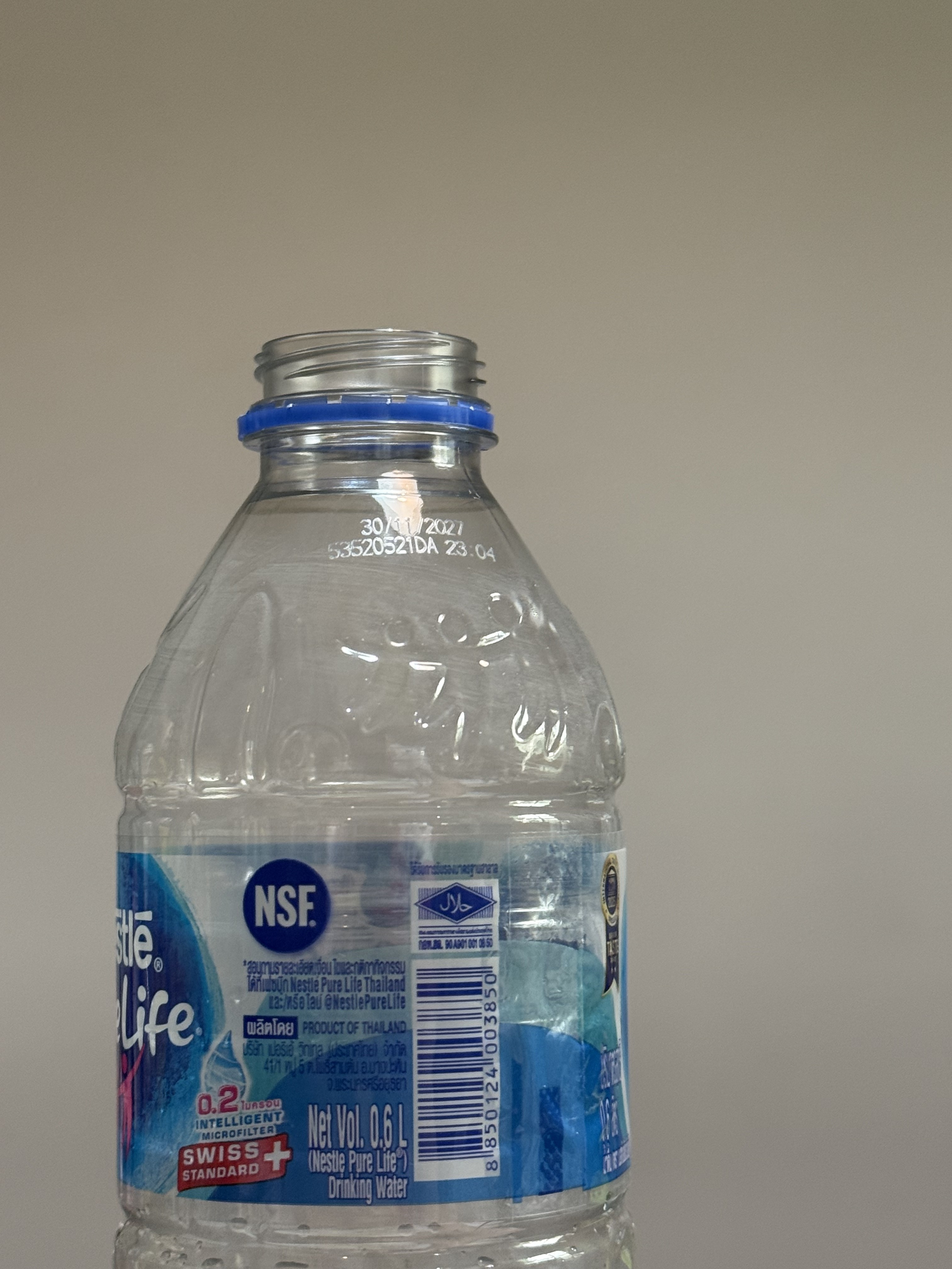no_cap: (235, 321, 498, 446)
